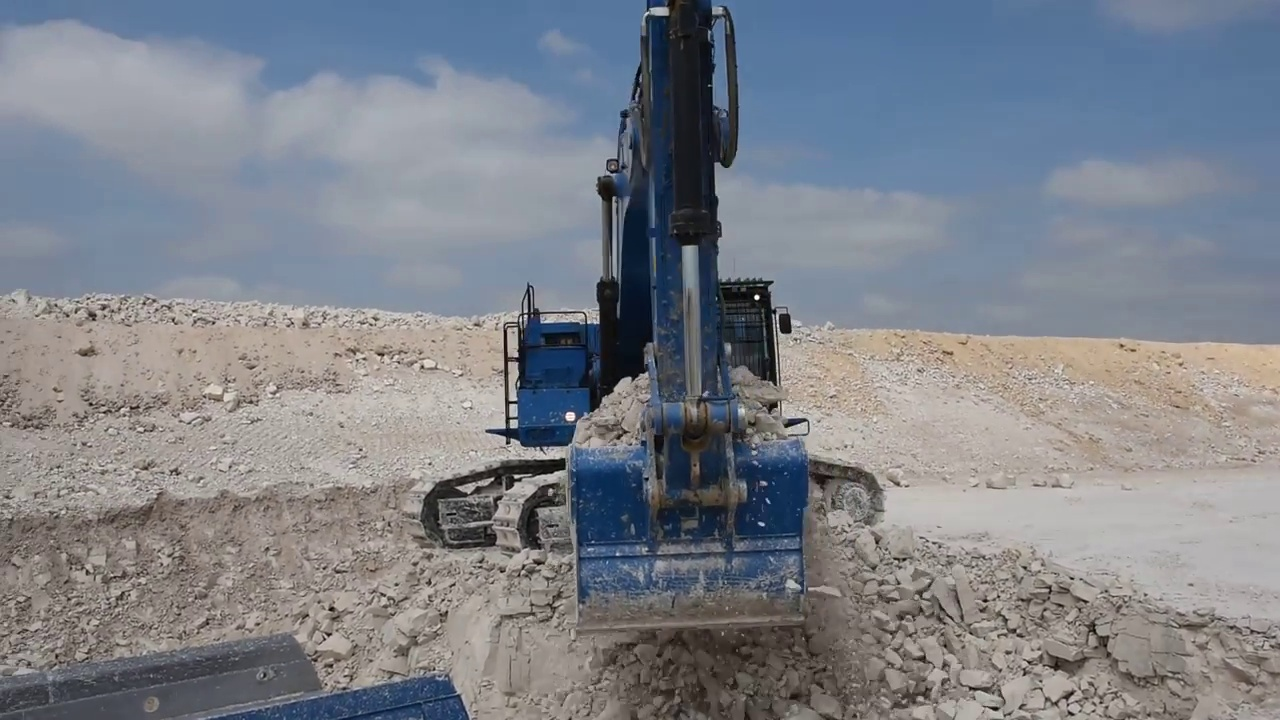excavator: (409, 1, 886, 641)
